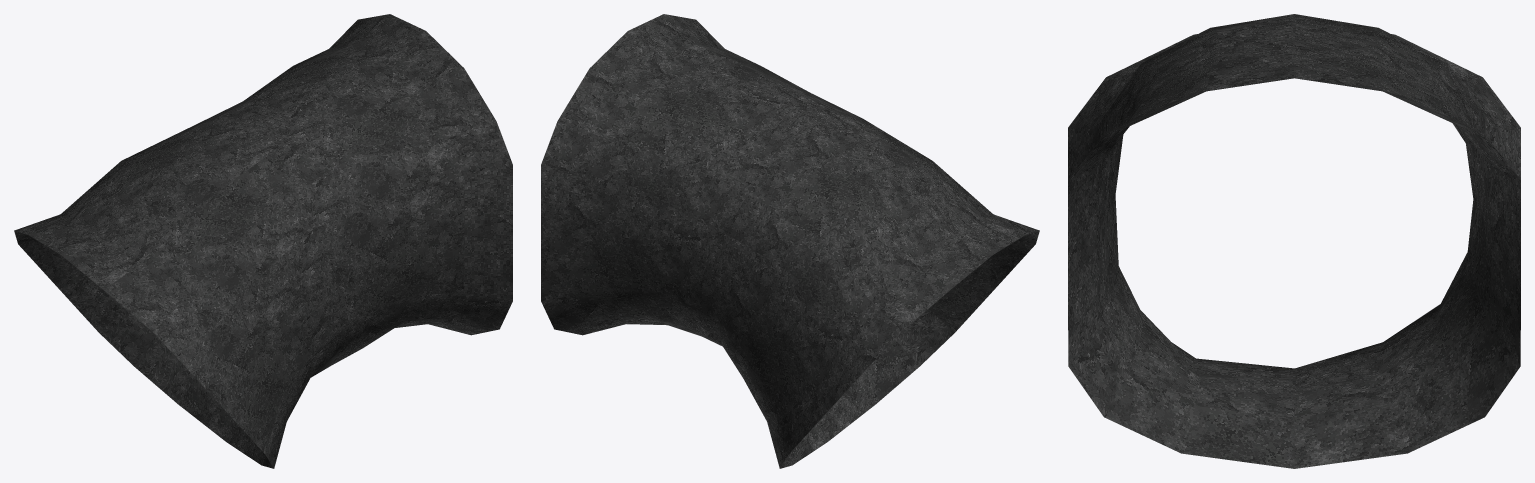
Rendered from CaveHallwayRamp.glb.
The picture shows the model from 3 angles, left to right: view 1: azimuth 30°, elevation 25°; view 2: azimuth 150°, elevation 25°; view 3: azimuth 270°, elevation 25°; orthographic projection. The views are drawn at different scales.
Parts seen in each view (by area): view 1: Cube.128; view 2: Cube.128; view 3: Cube.128.
Boxes of the visible parts, box(x1,y1,x2,y2) form: Cube.128: box(14, 14, 512, 468); Cube.128: box(541, 14, 1039, 468); Cube.128: box(1068, 14, 1520, 468).
Size of the model in its own units: 10.13 by 9.52 by 7.93.
Materials: 1 (1 with a texture image).
